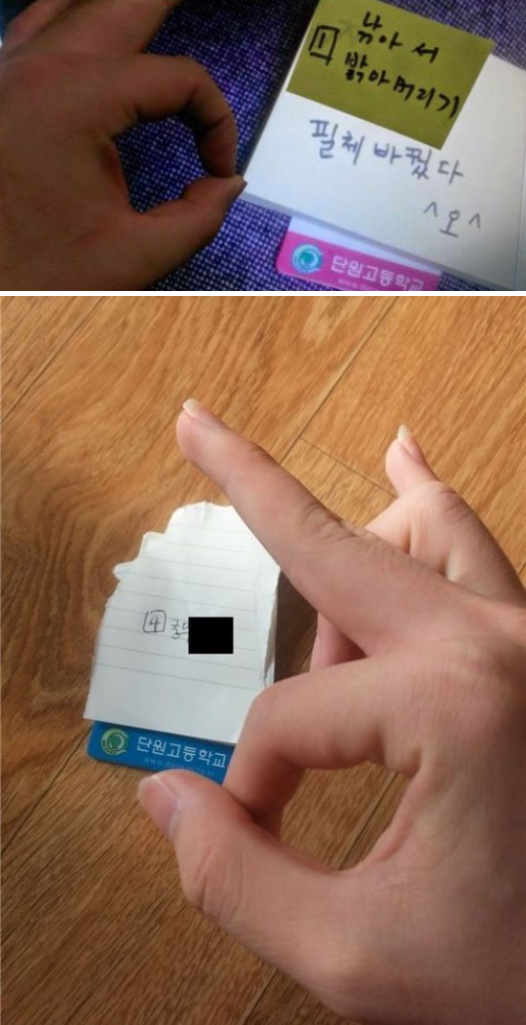ilbe: (122, 393, 526, 1025)
